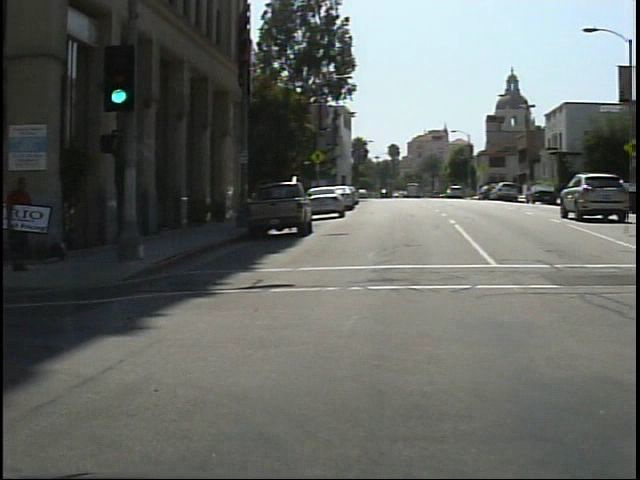person: (6, 162, 43, 281)
